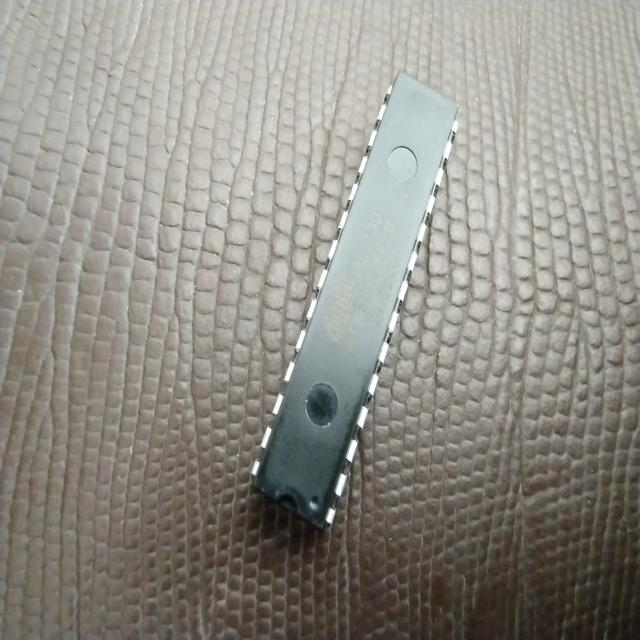atmega: (247, 68, 461, 532)
